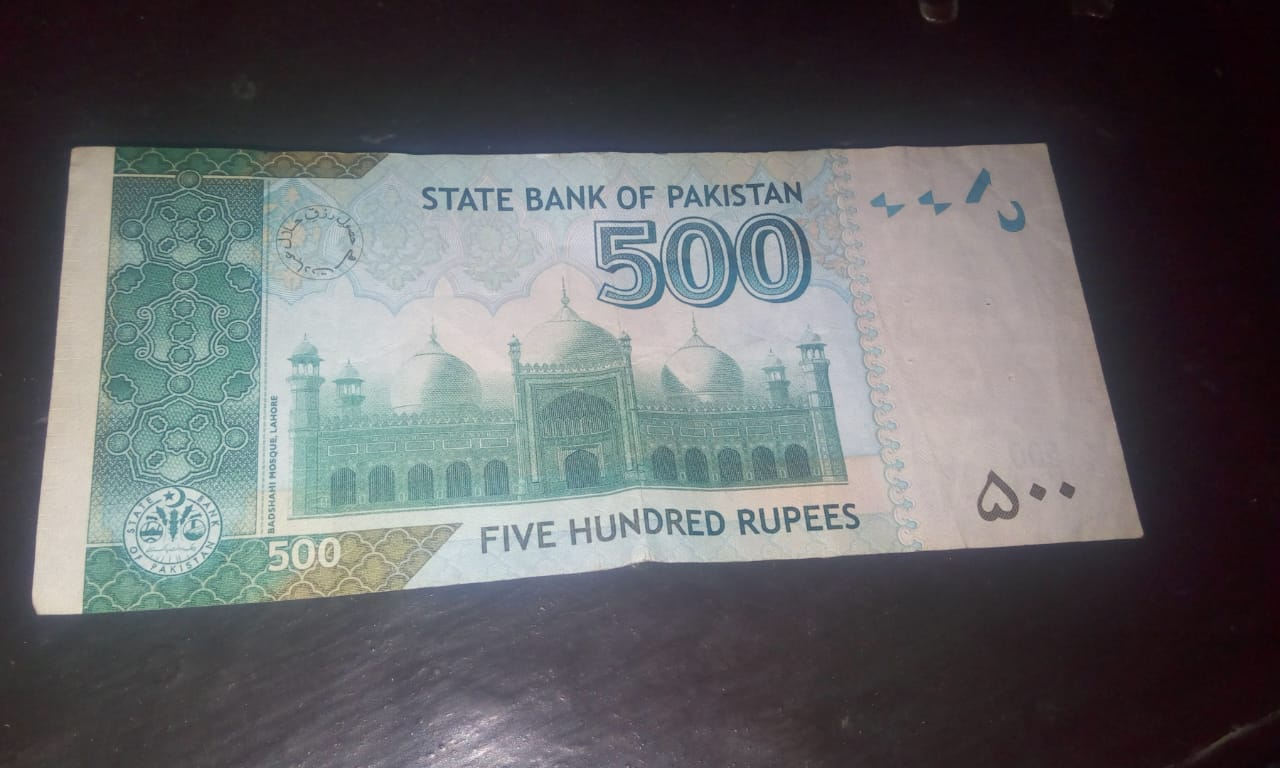500 rupee: (57, 125, 1133, 599)
